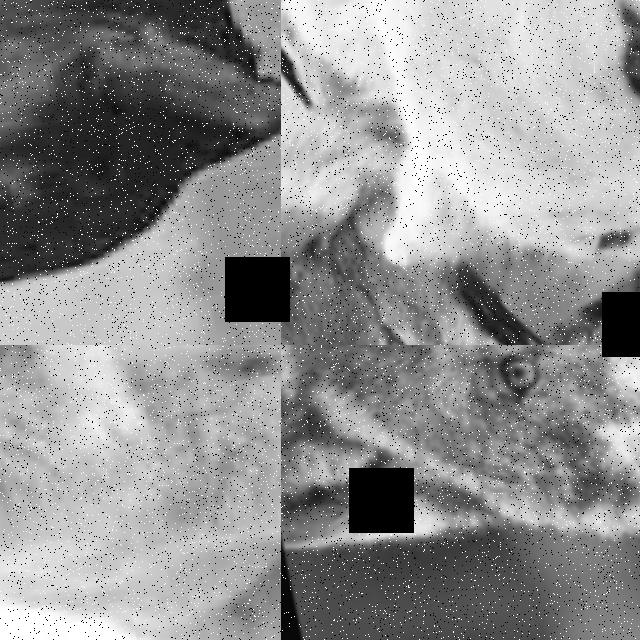dog: (0, 0, 281, 345), (0, 345, 281, 640)
wolf: (281, 0, 640, 345), (281, 14, 640, 345), (281, 345, 640, 640)
